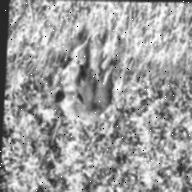boar: (54, 30, 132, 126)
